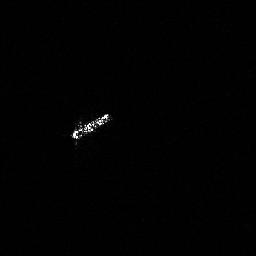ship: (66, 108, 117, 146)
